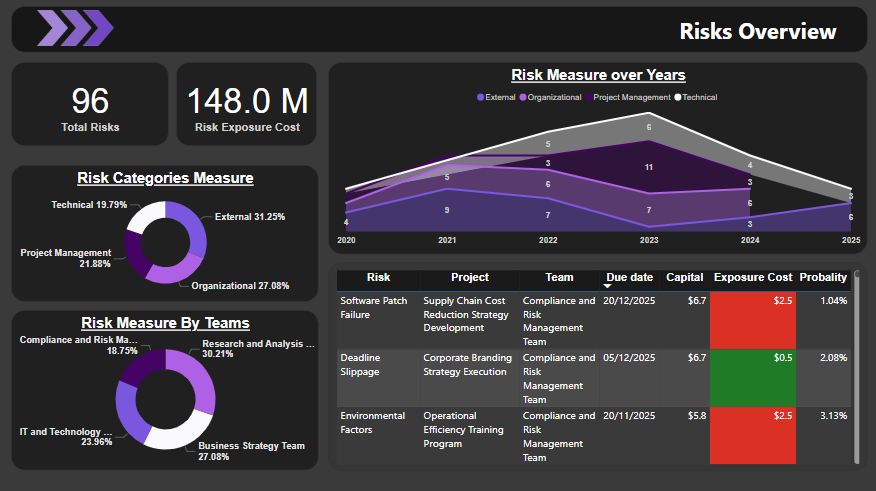

Layout of this report page (visuals, bound fields, positions):
{"tool":"powerbi","page":{"name":"Risk Portfolio","canvas":[1280,720],"ordinal":2},"visuals":[{"type":"donutChart","title":"Risk Categories Measure","fields":{"Category":["Risk_Type.Risk_category"],"Y":["CountNonNull(fact_Project_Dataset.Risk_Id)"]},"box":[24.3,241.4,442.9,197.1],"z":0},{"type":"stackedAreaChart","title":"Risk Measure over Years","fields":{"Category":["Year.Year"],"Y":["Key Measures.Total_Risks"],"Series":["Risk_Category.Risk_category"]},"box":[481.4,94.3,777.1,277.1],"z":1000},{"type":"tableEx","fields":{"Values":["fact_Risks.Risk_name","fact_Risks.Project Name","fact_Risks.Team_name","fact_Risks.due date","Sum(fact_Risks.project_cost)","Sum(fact_Risks.risk_exposure_cost)","Risk_probablity.probality"]},"box":[481.4,381.4,777.1,301.4],"z":2000},{"type":"donutChart","title":"Risk Measure By Teams","fields":{"Category":["Team.Team_Name"],"Y":["CountNonNull(fact_Project_Dataset.Risk_Id)"]},"box":[24.3,451.4,442.9,231.4],"z":3000},{"type":"card","fields":{"Values":["Key Measures.Total_Risks"]},"box":[24.3,94.3,227.1,121.4],"z":4000},{"type":"card","fields":{"Values":["Key Measures.Total_cost_exposure"]},"box":[261.4,94.3,202.9,121.4],"z":5000},{"type":"textbox","box":[24.3,12.9,1234.3,67.1],"z":6000},{"type":"image","box":[24.3,0,187.1,88.6],"z":7000}]}

Visuals, with their boxes in screenshot pixels (x1, y1, x2, y2), scaled from the page's 1280x720 canvas onto the 876x491 screenshot:
"Risk Categories Measure" donutChart: <box>17,165,320,299</box>
"Risk Measure over Years" stackedAreaChart: <box>329,64,861,253</box>
tableEx - fact_Risks.Risk_name x fact_Risks.Project Name: <box>329,260,861,466</box>
"Risk Measure By Teams" donutChart: <box>17,308,320,466</box>
card - Key Measures.Total_Risks: <box>17,64,172,147</box>
card - Key Measures.Total_cost_exposure: <box>179,64,318,147</box>
textbox: <box>17,9,861,55</box>
image: <box>17,0,145,60</box>
